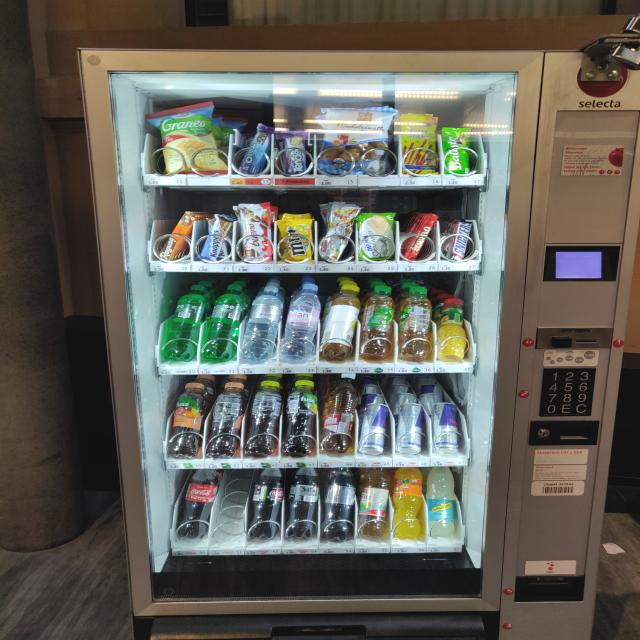balisto_muesli__37g__5000159418546: (441, 127, 476, 174)
bueno___43__4008400320328: (240, 202, 270, 262)
coke__flasche_50__54491472: (175, 469, 214, 536)
coke_light_flasche_50__5449238: (322, 468, 358, 541)
coke_zero_flasche_50__5449000131836: (284, 469, 322, 538), (246, 471, 284, 539)
darwida_sandwich____7610032065170: (358, 213, 397, 262)
erle____: (314, 106, 393, 178)
evian___50__3068320353500: (284, 283, 320, 358)
fanta___50__40822938: (391, 467, 425, 543)
fuse_lemon__50__5449000235947: (246, 378, 285, 458), (284, 379, 320, 457)
fuse_peach__50__5449000236623: (204, 378, 244, 458), (170, 379, 208, 458)
granini_orange__50__: (436, 298, 469, 360)
knoppers_riegel____4035800488808: (193, 213, 233, 264)
lorenz_studentenfutter____: (318, 205, 356, 264)
malburner_partysticks__40__7610200279682: (400, 114, 442, 176)
milka_oreo_riegel_37_1_7622210704740: (238, 124, 271, 174)
milka_tender____: (276, 128, 307, 175)
mnms_gelb__45__40111445: (276, 219, 314, 266)
momo_icetea__50__: (320, 282, 360, 359)
ragusa___50__76401121: (154, 212, 192, 260)
ramseier_jusdepomme__50__7610057001078: (356, 463, 390, 537)
redbull___33__90162909: (392, 398, 427, 453), (431, 403, 466, 452), (360, 402, 388, 458)
rivella_rot__50__7610097111072: (322, 373, 359, 451)
schweppes_bitterlemon__50__: (426, 468, 464, 538)
snickers___50__5000159461122: (444, 220, 472, 260)
torino___46__76415272: (403, 213, 436, 262)
valser_classic__50__76404160: (162, 284, 207, 362), (203, 283, 243, 359)
valser_still__50__7610335002575: (238, 285, 284, 360)
volvic_teeminze__50__3057640335648: (398, 283, 433, 361), (362, 282, 395, 361)
zweifel_graneochilli__100__7610095184009: (150, 96, 226, 174)
